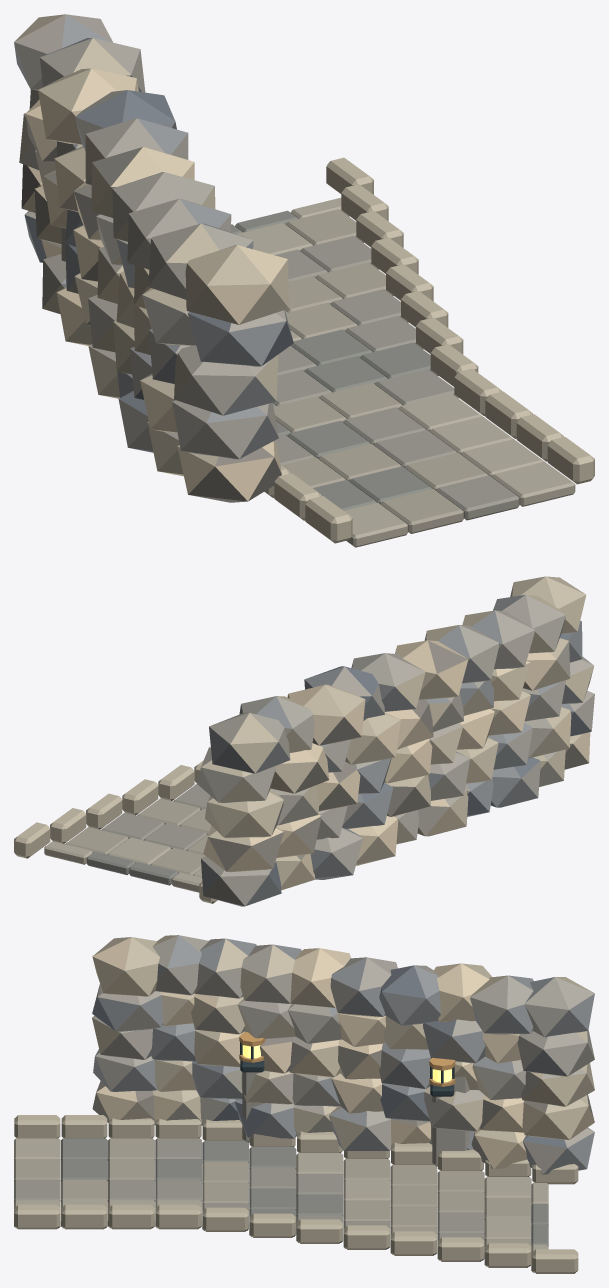
The model's file is galerie_grottes.glb.
3 renders of one model, top to bottom at view 1: azimuth 30°, elevation 25°; view 2: azimuth 150°, elevation 25°; view 3: azimuth 270°, elevation 25°, orthographic. The views are drawn at different scales.
Parts seen in each view (by area): view 1: galerie_grottes; view 2: galerie_grottes; view 3: galerie_grottes.
Boxes of the visible parts, x1,y1,x2,y2 form: galerie_grottes: (14, 14, 594, 547); galerie_grottes: (14, 576, 594, 906); galerie_grottes: (14, 935, 594, 1273).
Size of the model in its own units: 7.14 by 3.79 by 10.24.
